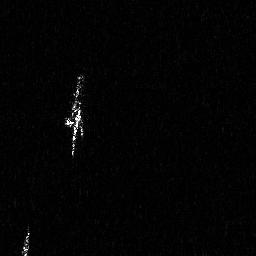ship: (64, 71, 87, 161)
